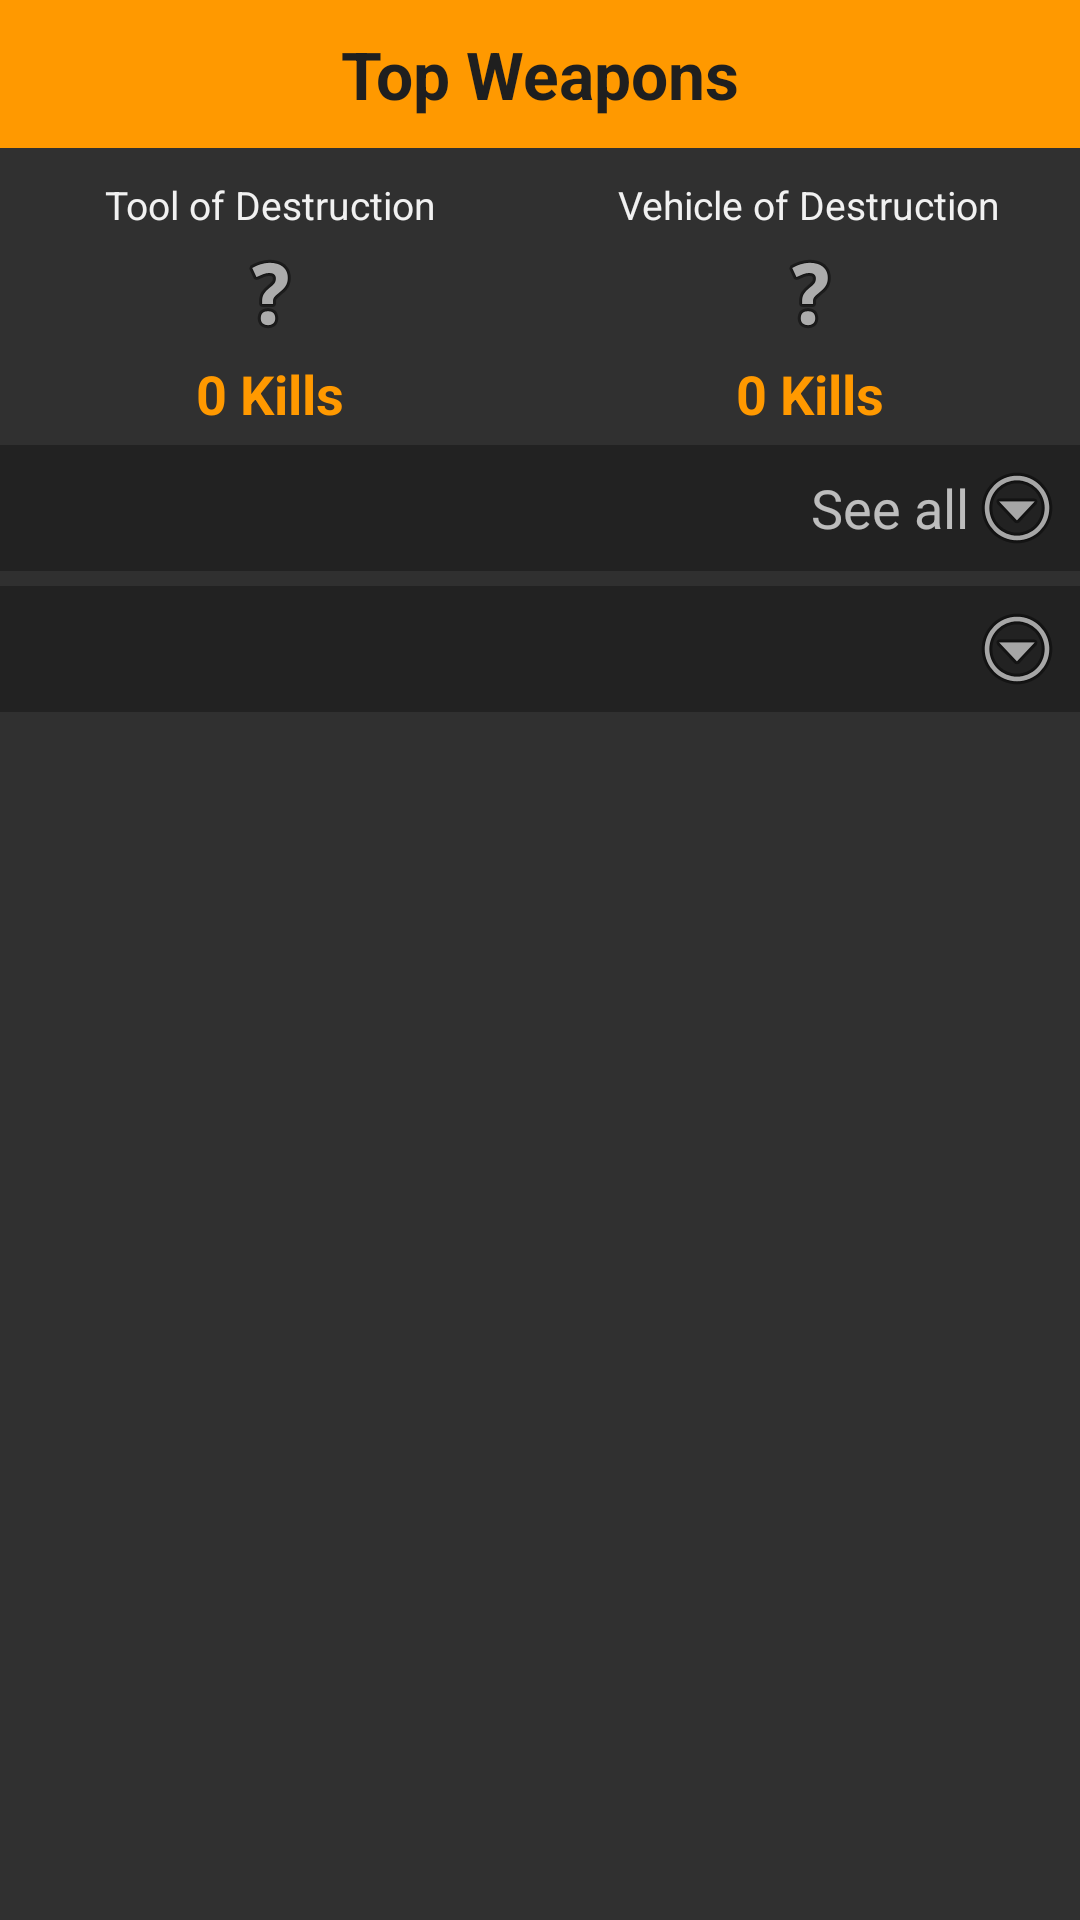

Point at icon controls on the screen. Image size 1080*1920, points as point (x, y).
help: point (270, 294), point (810, 294)
more: point (1017, 508), point (1017, 649)
